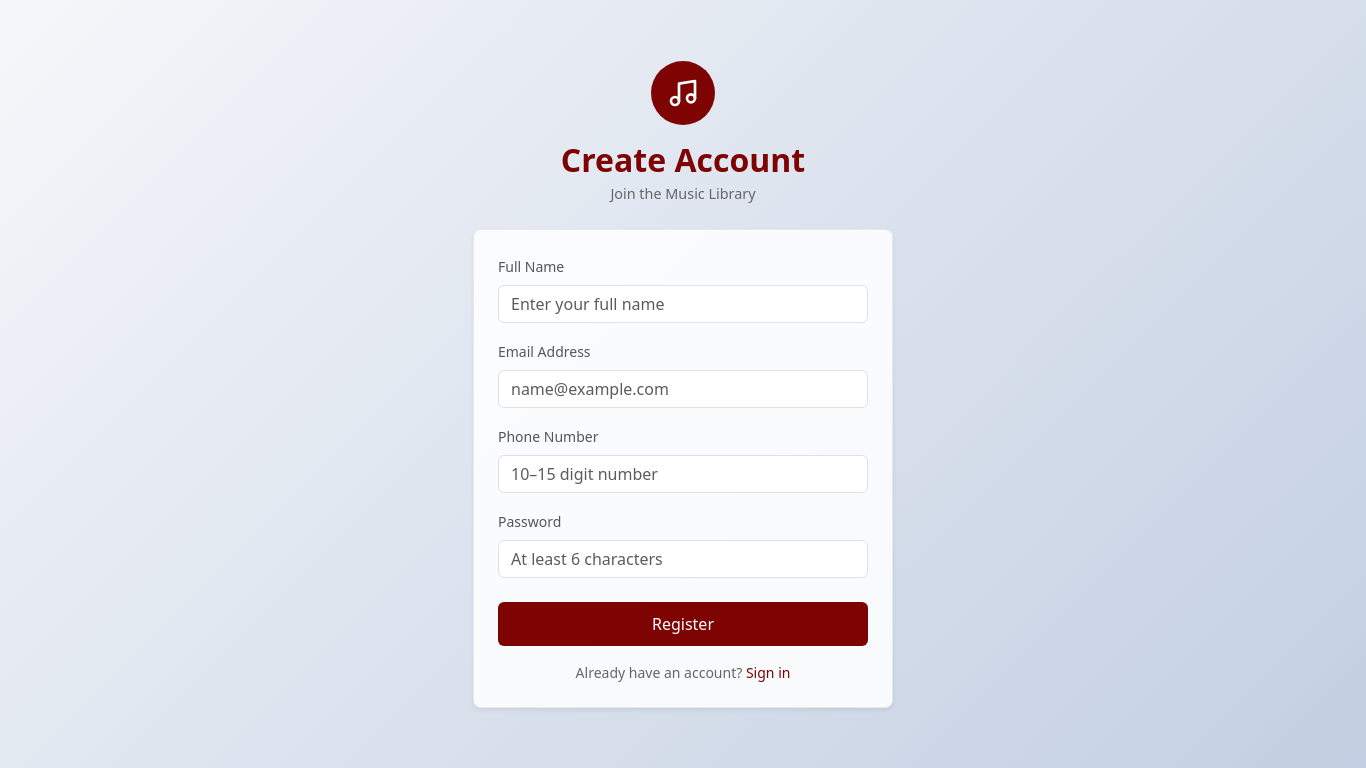
Test case: Register component › API calls › shows API error message when registration fails
Step 1. Type "John Doe" into the field with placeholder "Enter your full name" → (683, 304), box [498,284,868,322]
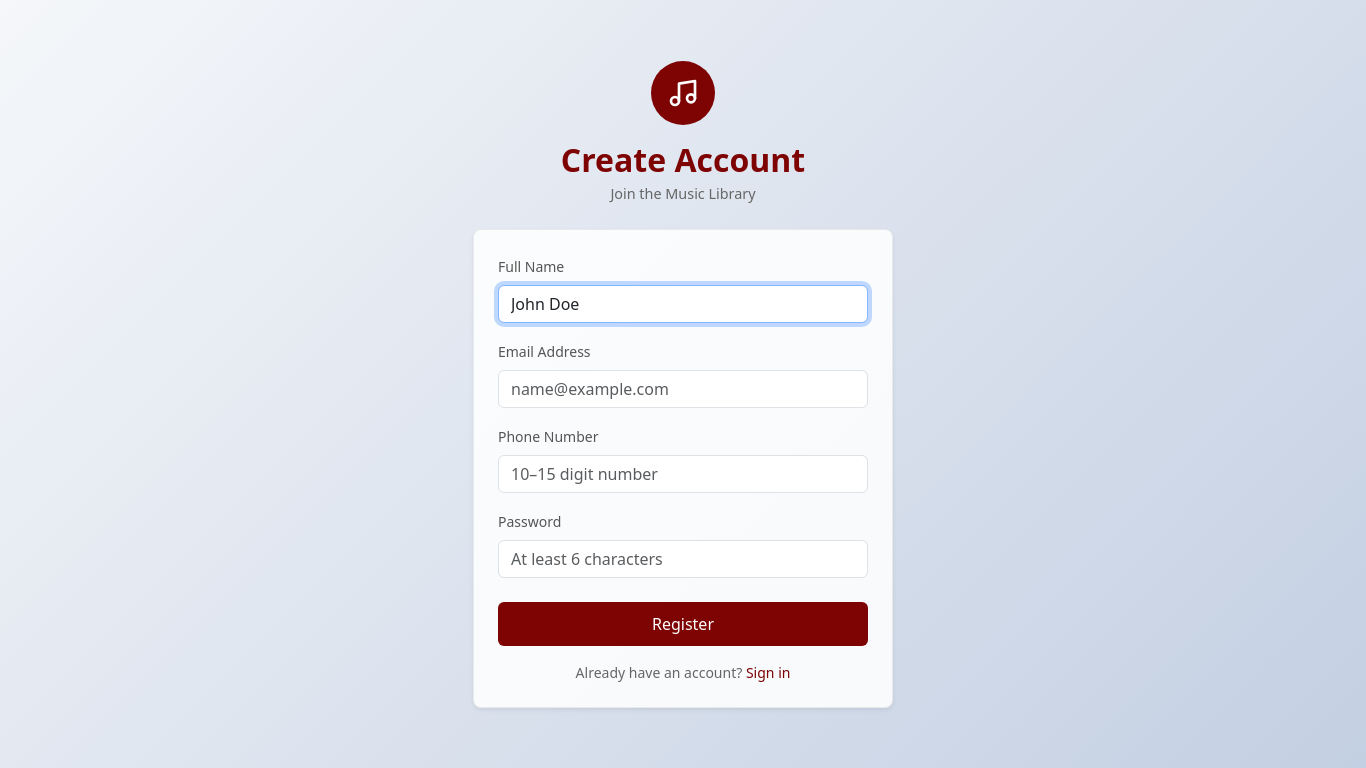
Step 2. Type "john@music.com" into the field with placeholder "name@example.com" → (683, 388), box [498,370,868,408]
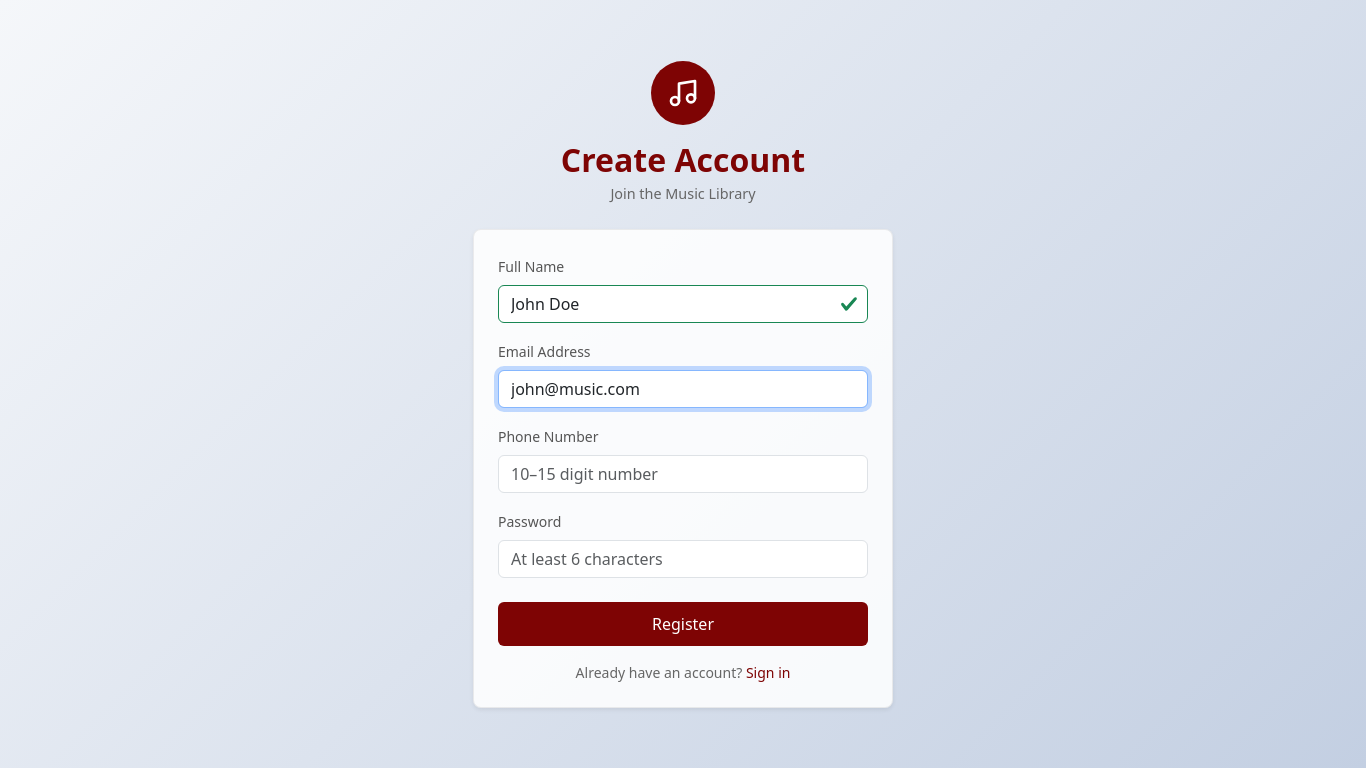
Step 3. Type "9876543210" into the field with placeholder "10–15 digit number" → (683, 474), box [498,454,868,492]
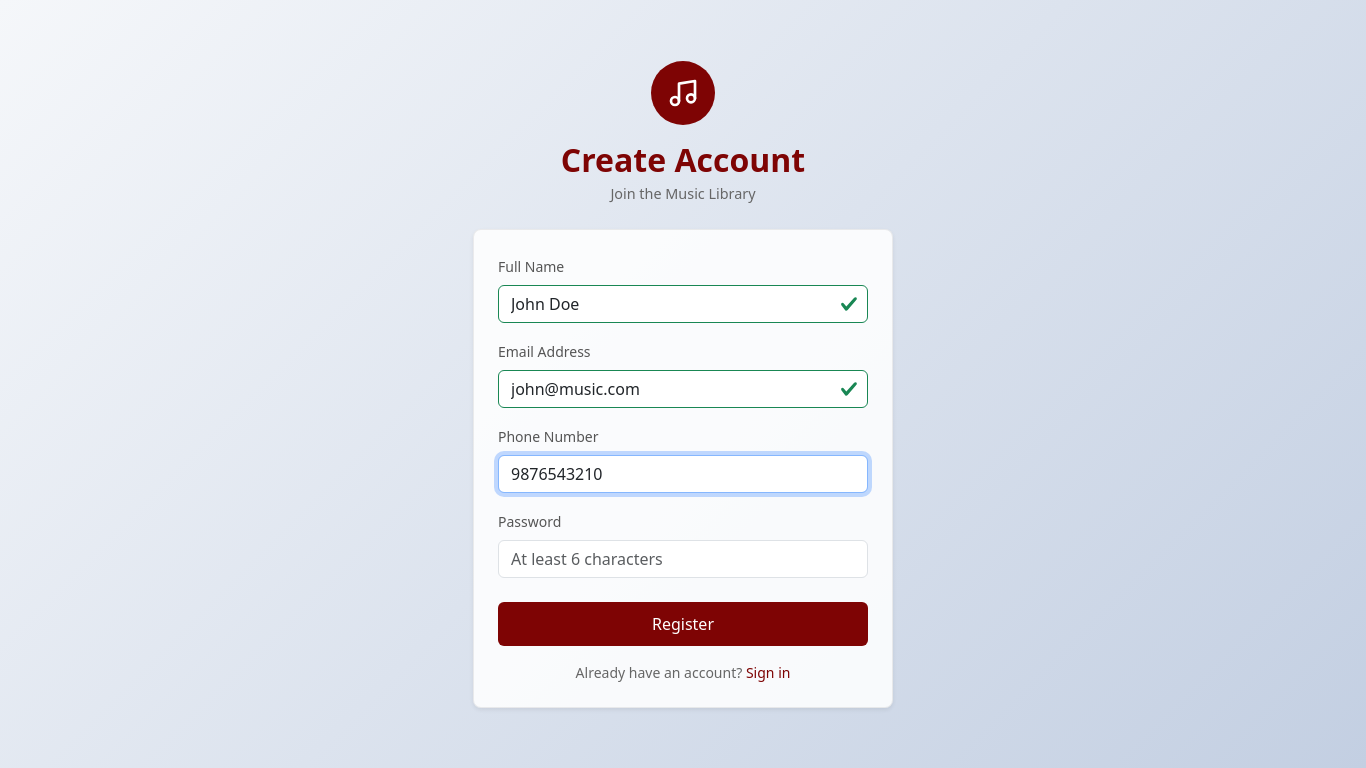
Step 4. Type "pass123" into the password field with placeholder "At least 6 characters" → (683, 558), box [498,540,868,578]
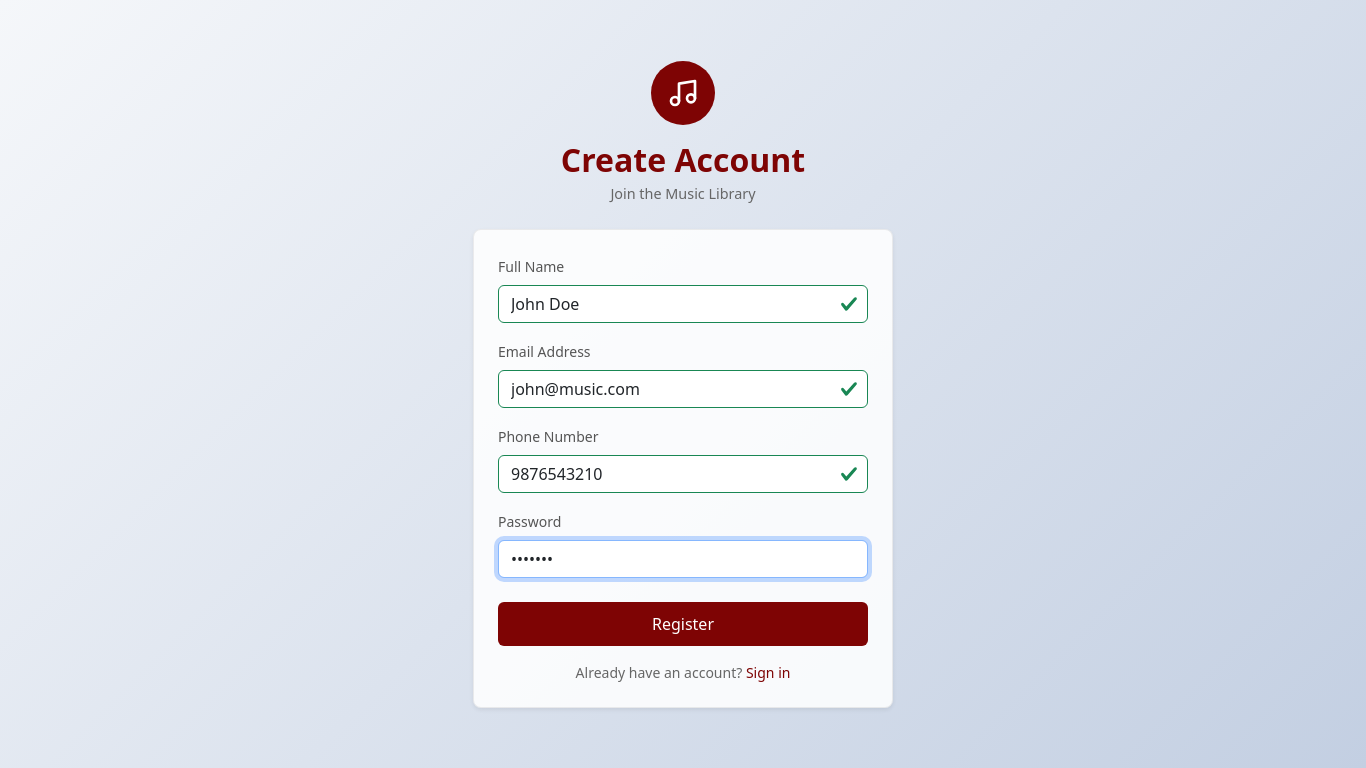
Step 5. Click the button "Register" → (683, 624), box [498,602,868,646]
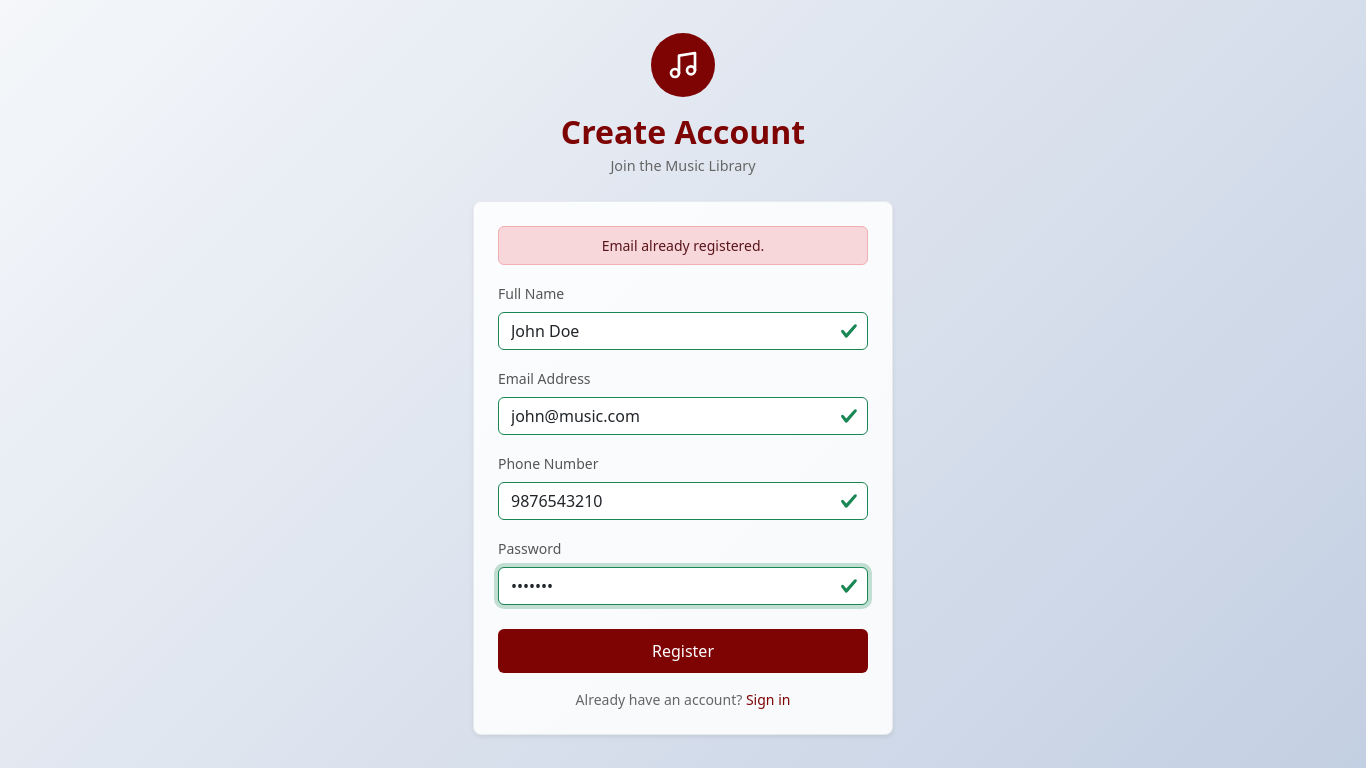
Expected: the text "Email already registered." is shown, [498,226,868,265]
